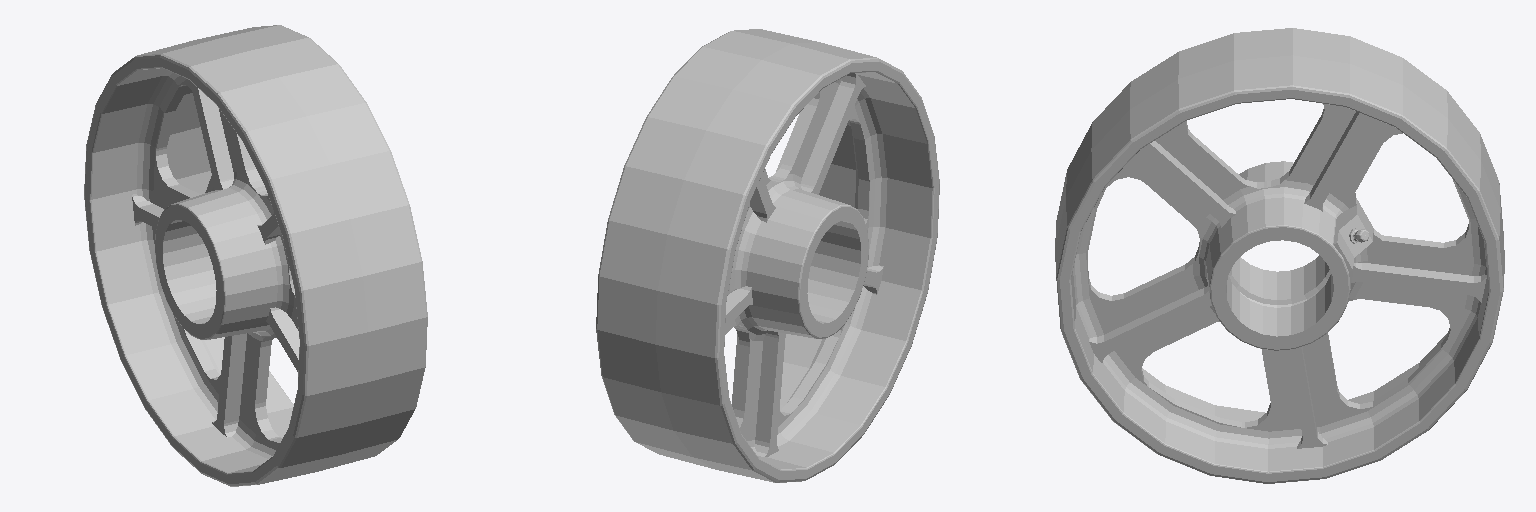
Rendered from original-18.obj.
3 views of the same model, side by side, from view 1: azimuth 30°, elevation 25°; view 2: azimuth 150°, elevation 25°; view 3: azimuth 270°, elevation 25° (orthographic).
Visible parts, largest first — view 1: mesh17/mesh17-geometry#mesh17-geometry; view 2: mesh17/mesh17-geometry#mesh17-geometry; view 3: mesh17/mesh17-geometry#mesh17-geometry.
Boxes of the visible parts, x1,y1,x2,y2 form: mesh17/mesh17-geometry#mesh17-geometry: [84, 25, 427, 486]; mesh17/mesh17-geometry#mesh17-geometry: [596, 29, 939, 482]; mesh17/mesh17-geometry#mesh17-geometry: [1055, 28, 1504, 483].
Bounding box in the file's own units: 0.0684 × 0.1973 × 0.2006.